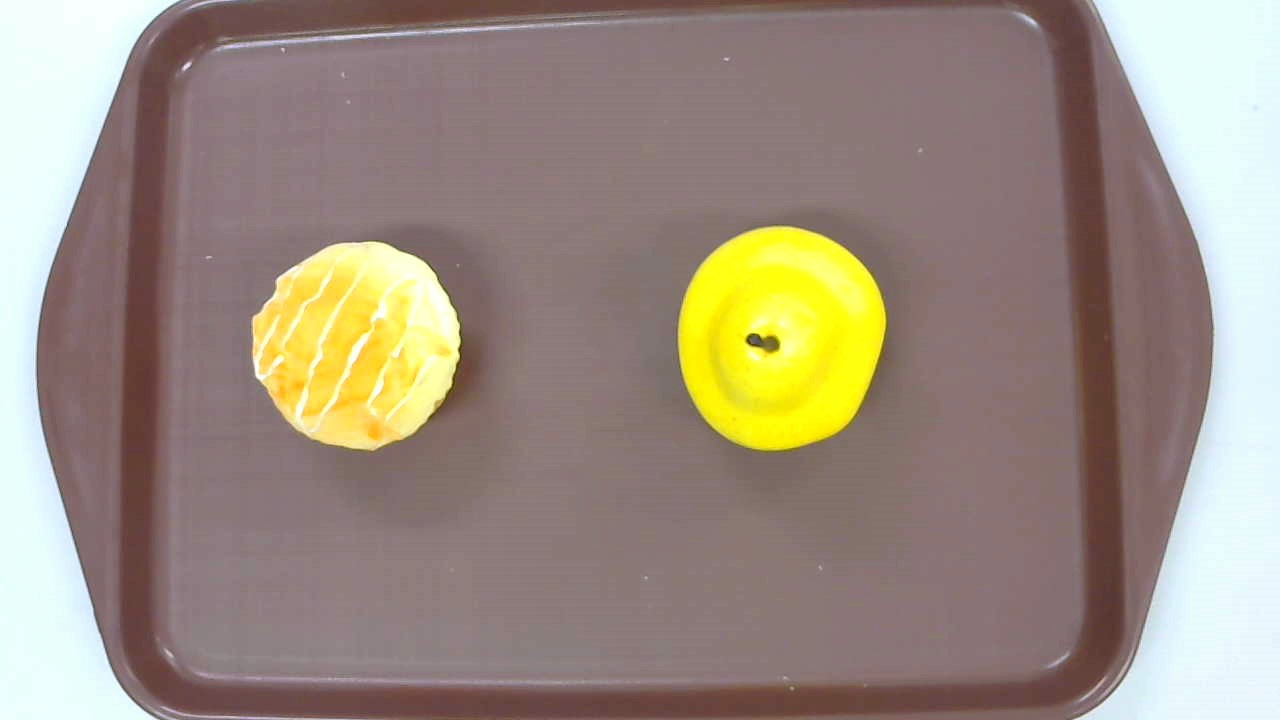cupcake: (251, 241, 463, 451)
yellow pear: (677, 225, 887, 452)
